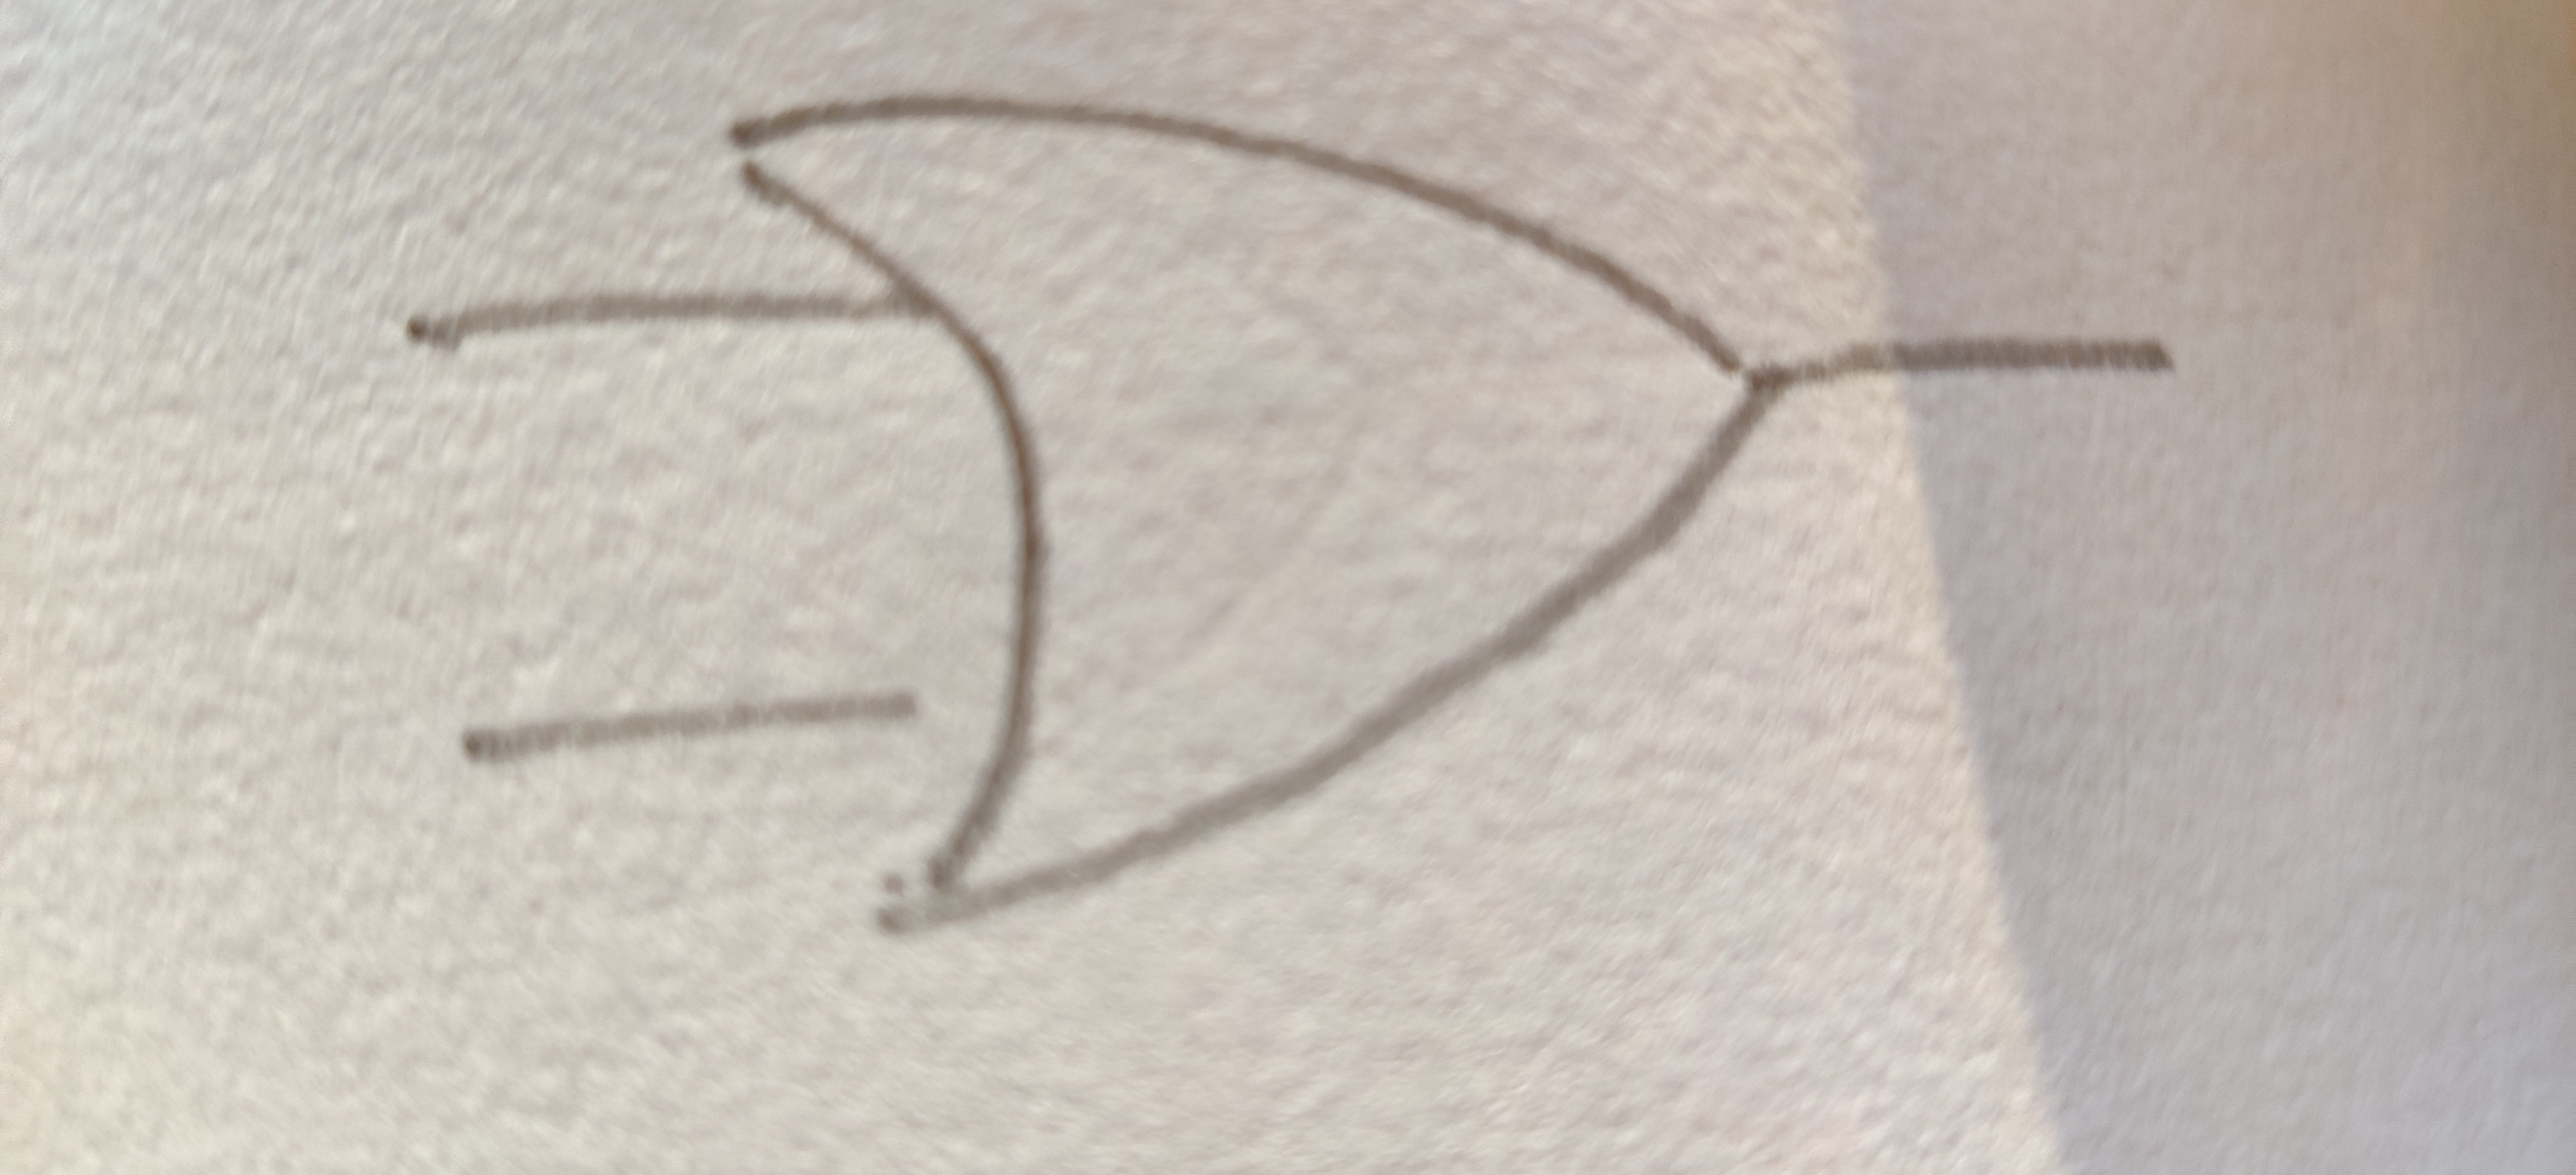or: (736, 95, 1776, 930)
